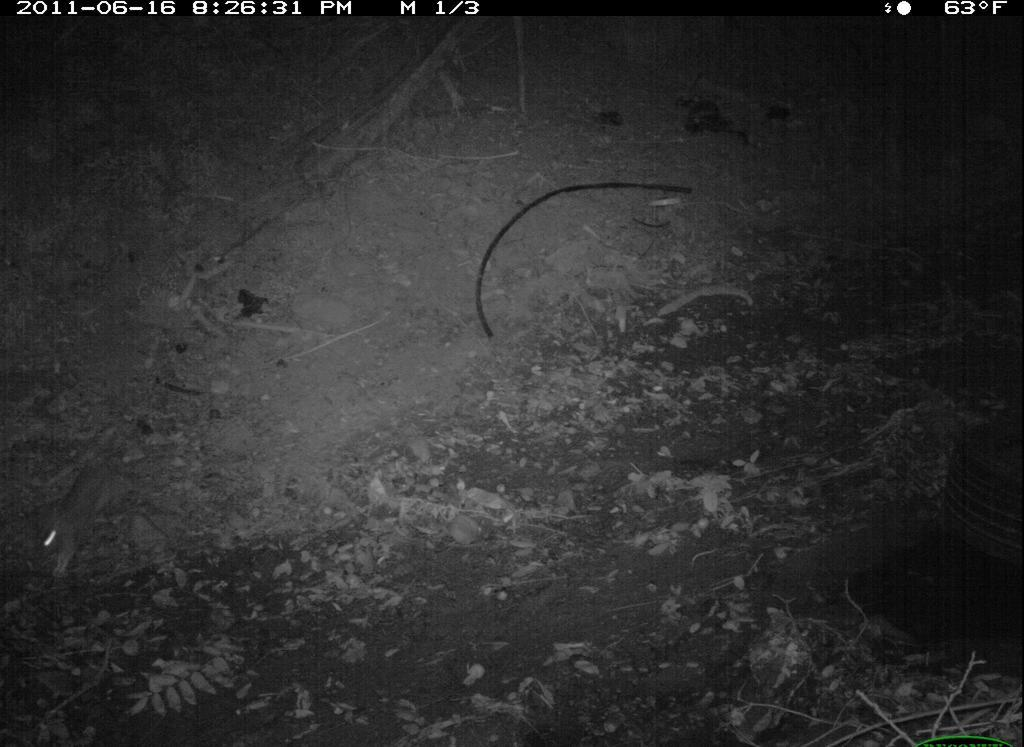opossum: (29, 436, 150, 580)
